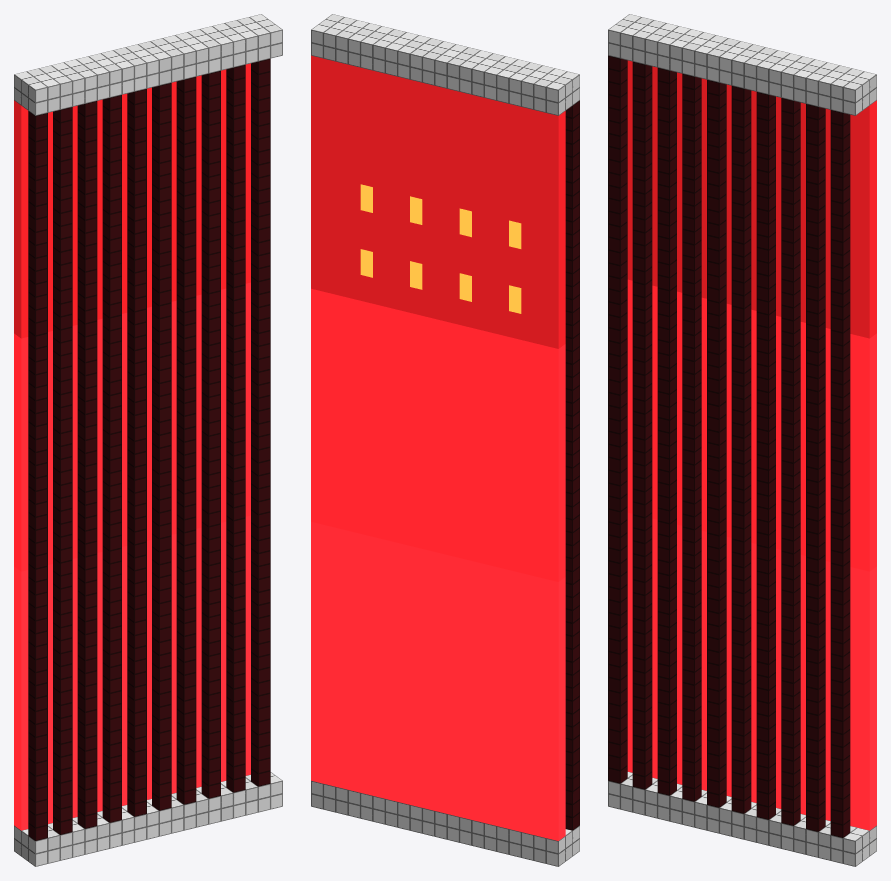
File: slatted_backdrop.glb
3 views of the same model, side by side, from view 1: azimuth 30°, elevation 25°; view 2: azimuth 150°, elevation 25°; view 3: azimuth 330°, elevation 25° (orthographic).
Visible parts, largest first — view 1: slatted_backdrop; view 2: slatted_backdrop; view 3: slatted_backdrop.
Part boxes in pixels (x1,y1,x2,y2): slatted_backdrop: (14,14,282,866); slatted_backdrop: (311,14,579,866); slatted_backdrop: (608,14,876,866).
Size of the model in its own units: 1 by 3 by 0.15.
Materials: 6 (2 with a texture image).
